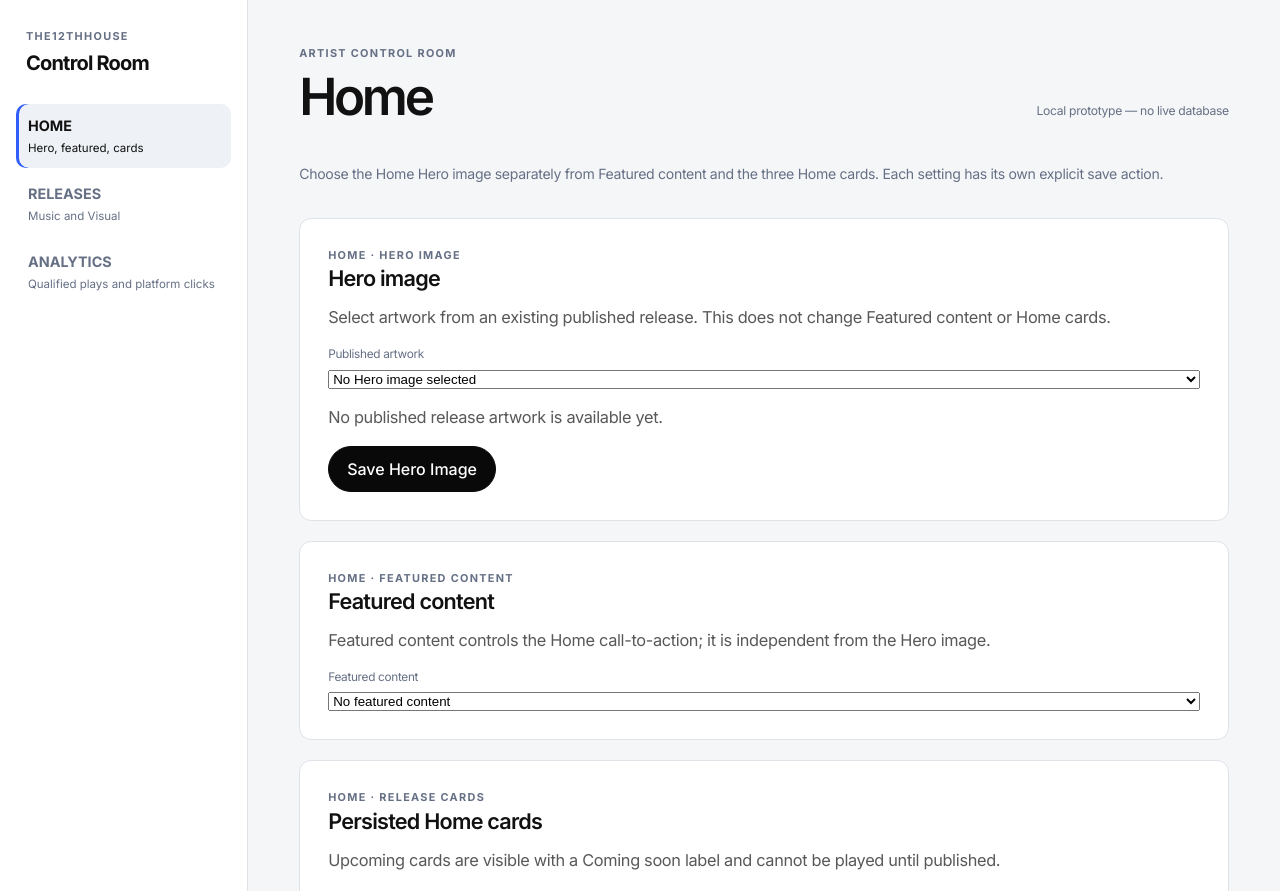
Test: AdminPage album audio creation › keeps an audio picker available while creating a single
Click the button "RELEASES Music and Visual" at (124, 204), box [16,172,231,236]
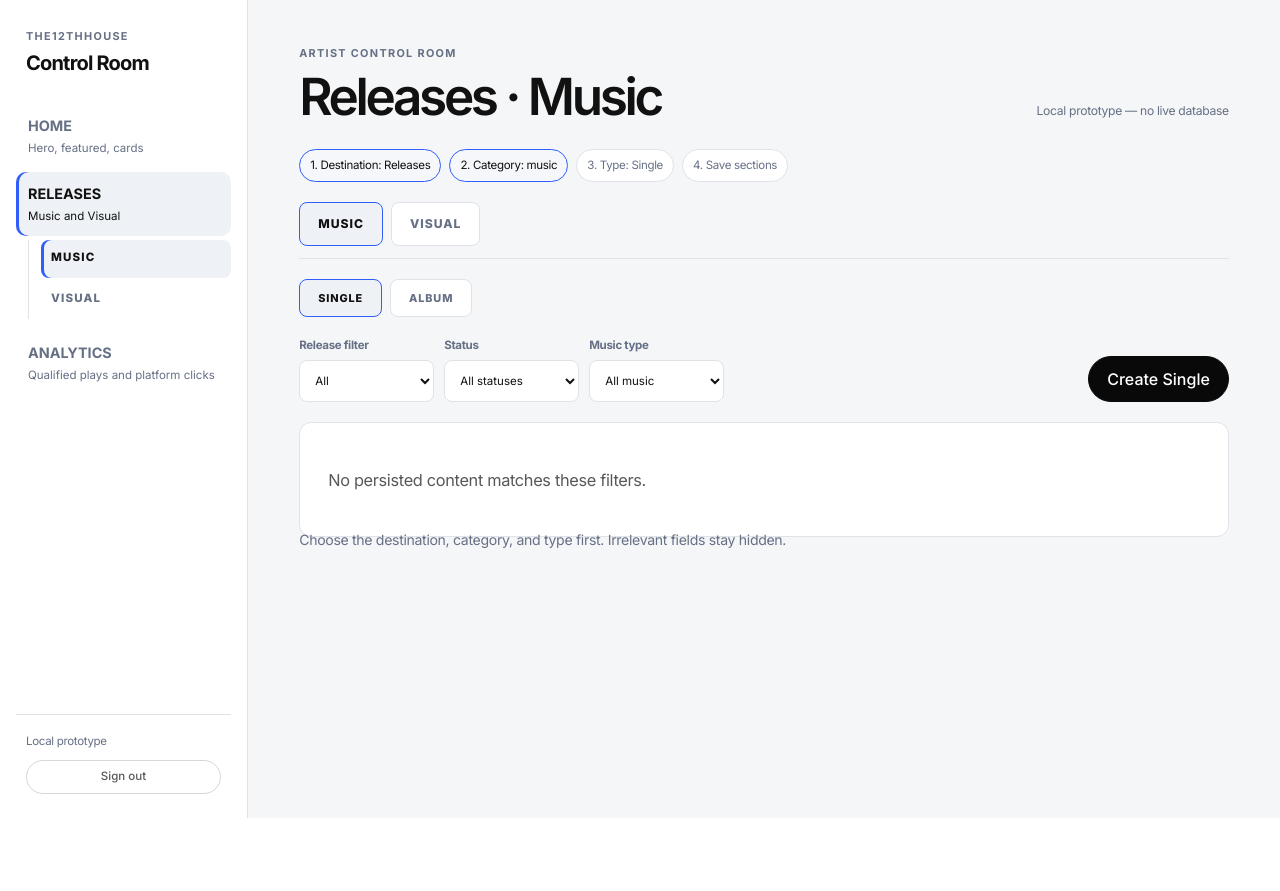
Click the button "Create Single" at (1159, 379), box [1088,356,1229,402]
(page scrolled)
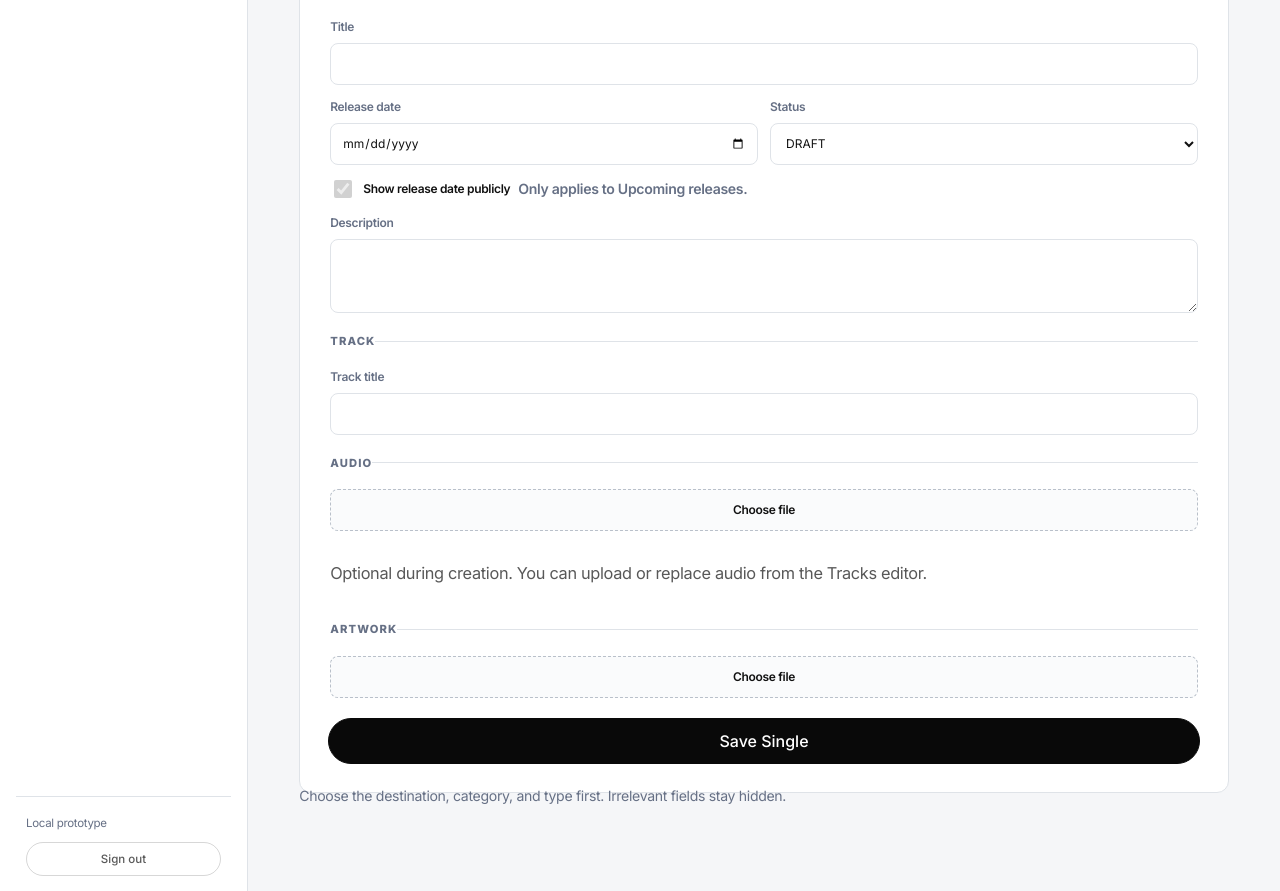
Result: the 1st file field labelled "Choose file" is shown at [330,489,1198,531]
